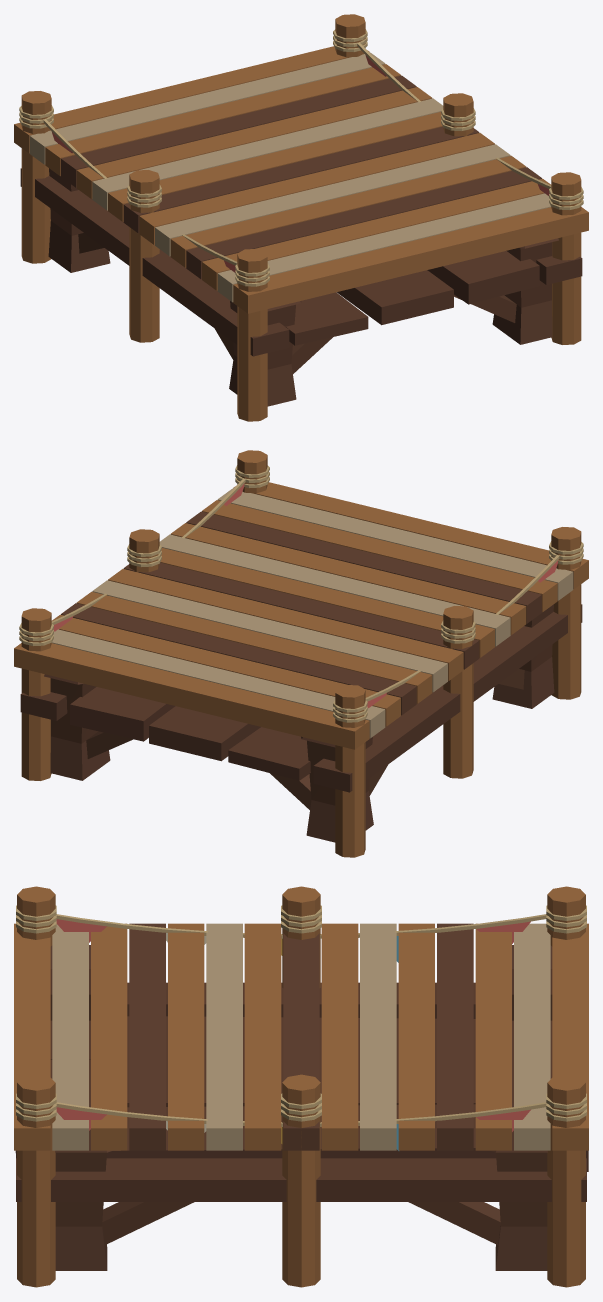
The model's file is dock-platform.glb.
3 views of the same model, one above another, from view 1: azimuth 30°, elevation 25°; view 2: azimuth 150°, elevation 25°; view 3: azimuth 270°, elevation 25° (orthographic). The views are drawn at different scales.
Visible parts, largest first — view 1: dock-platform; view 2: dock-platform; view 3: dock-platform.
Boxes of the visible parts, bbox=[...] form: dock-platform: bbox=[14, 14, 588, 421]; dock-platform: bbox=[14, 450, 588, 857]; dock-platform: bbox=[14, 886, 588, 1287].
Size of the model in its own units: 3.55 by 1.58 by 4.19.
